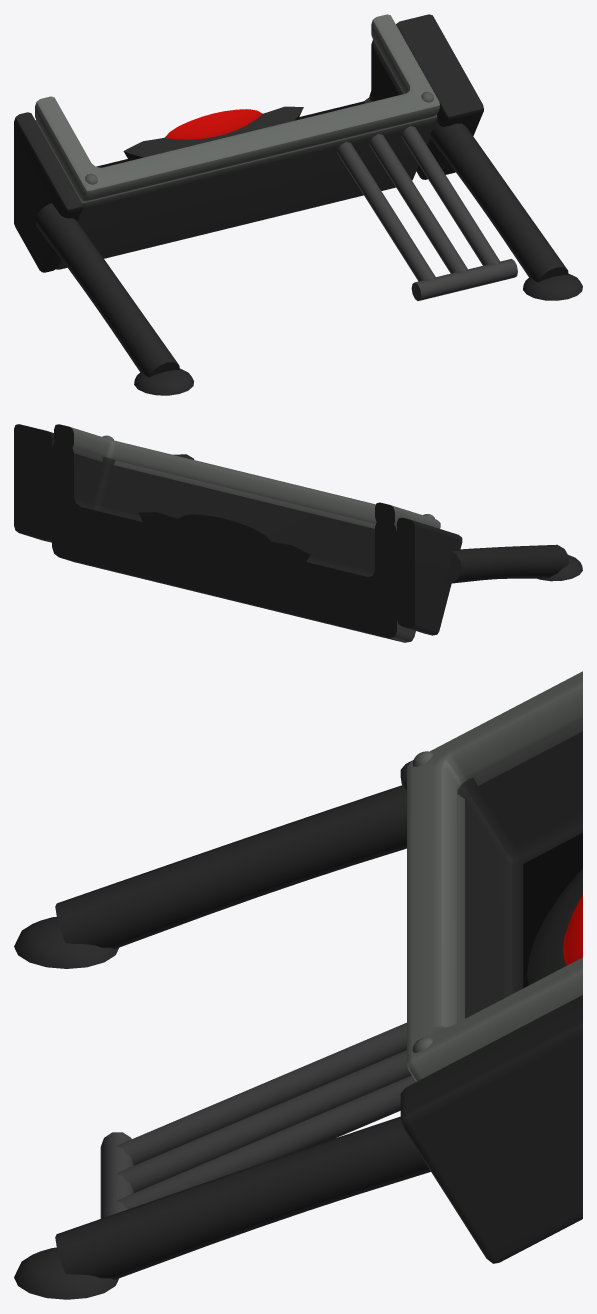
Rendered from cliff_bunker_base_199.glb.
3 views of the same model, one above another, from view 1: azimuth 30°, elevation 25°; view 2: azimuth 150°, elevation 25°; view 3: azimuth 270°, elevation 25° (orthographic). The views are drawn at different scales.
Visible parts, largest first — view 1: box.001, frame.001, leg0.001, leg1.001, bracket0.001, bracket1.001, grille_bar0.001, grille_bar1.001, grille_bar2.001, grille_rail2.001, eye_socket.001, eye.001 (+2 smaller); view 2: box.001, frame.001, bracket0.001, bracket1.001, leg0.001, eye.001, eye_socket.001, leg_pad0.001; view 3: bracket1.001, frame.001, box.001, leg1.001, leg0.001, grille_bar1.001, grille_bar0.001, grille_bar2.001, leg_pad1.001, leg_pad0.001, eye_socket.001, grille_rail2.001 (+1 smaller).
Boxes of the visible parts, bbox=[...] form: box.001: bbox=[35, 40, 437, 269]; frame.001: bbox=[35, 14, 439, 201]; leg0.001: bbox=[35, 203, 179, 377]; leg1.001: bbox=[430, 122, 568, 282]; bracket0.001: bbox=[14, 112, 82, 272]; bracket1.001: bbox=[396, 14, 483, 179]; grille_bar0.001: bbox=[336, 142, 435, 281]; grille_bar1.001: bbox=[369, 134, 467, 273]; grille_bar2.001: bbox=[401, 126, 499, 265]; grille_rail2.001: bbox=[411, 259, 517, 300]; eye_socket.001: bbox=[123, 106, 303, 159]; eye.001: bbox=[165, 109, 262, 139]; box.001: bbox=[52, 441, 415, 642]; frame.001: bbox=[54, 424, 440, 528]; bracket0.001: bbox=[397, 517, 462, 635]; bracket1.001: bbox=[14, 424, 54, 542]; leg0.001: bbox=[445, 544, 569, 583]; eye.001: bbox=[176, 514, 272, 551]; eye_socket.001: bbox=[139, 512, 310, 562]; leg_pad0.001: bbox=[537, 555, 582, 581]; bracket1.001: bbox=[400, 995, 582, 1263]; frame.001: bbox=[407, 671, 582, 1081]; box.001: bbox=[457, 720, 582, 1022]; leg1.001: bbox=[55, 1116, 430, 1279]; leg0.001: bbox=[55, 785, 406, 949]; grille_bar1.001: bbox=[116, 1050, 411, 1192]; grille_bar0.001: bbox=[116, 1022, 406, 1165]; grille_bar2.001: bbox=[116, 1075, 415, 1209]; leg_pad1.001: bbox=[14, 1247, 118, 1299]; leg_pad0.001: bbox=[14, 917, 118, 968]; eye_socket.001: bbox=[527, 868, 582, 985]; grille_rail2.001: bbox=[100, 1132, 134, 1218].
Bounding box in the file's own units: 21.15 × 7.72 × 13.45.
